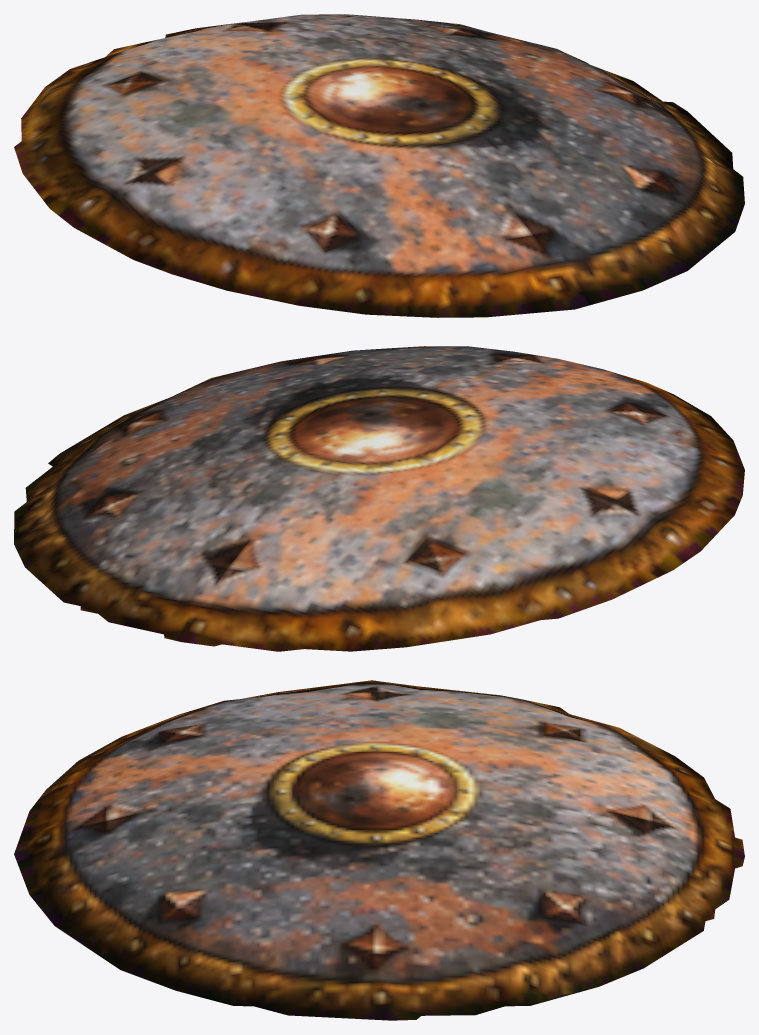
File: item_sshield2.glb
3 views of the same model, one above another, from view 1: azimuth 30°, elevation 25°; view 2: azimuth 150°, elevation 25°; view 3: azimuth 270°, elevation 25° (orthographic). The views are drawn at different scales.
Parts seen in each view (by area): view 1: sshield2; view 2: sshield2; view 3: sshield2.
Boxes of the visible parts, box(x1,y1,x2,y2) form: sshield2: box(14, 14, 744, 317); sshield2: box(14, 346, 744, 651); sshield2: box(14, 680, 744, 1020).
Size of the model in its own units: 1.4 by 0.2071 by 1.48.
Materials: 1 (1 with a texture image).
